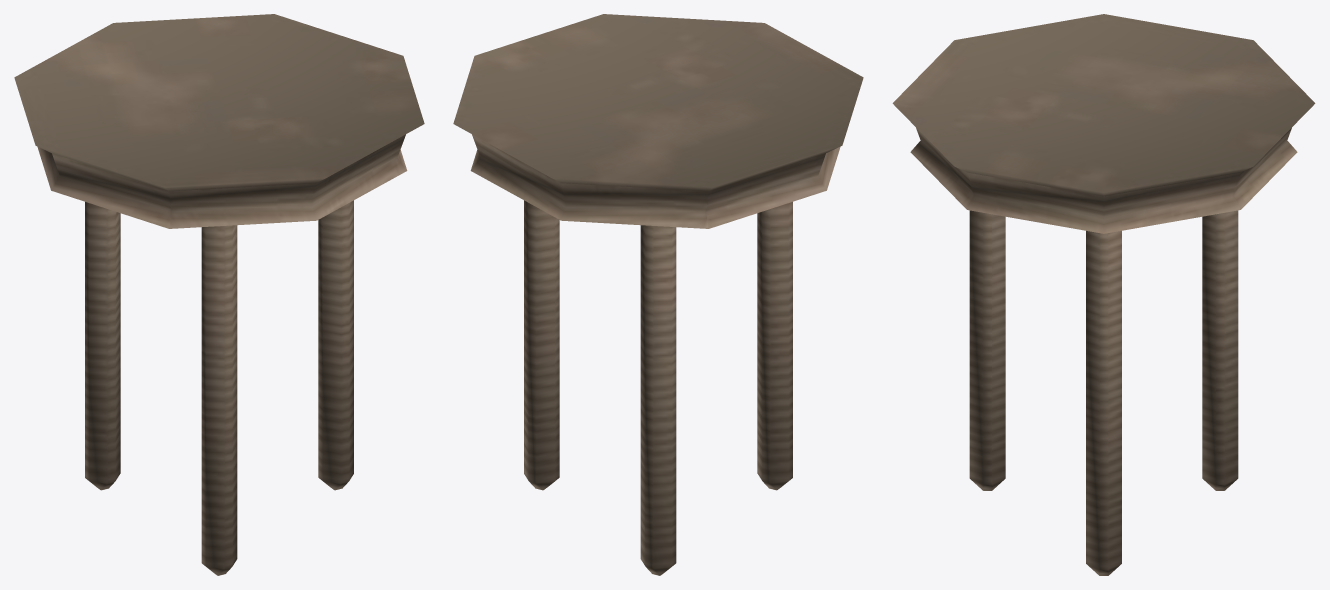
The model's file is stool.glb.
3 renders of one model, left to right at view 1: azimuth 30°, elevation 25°; view 2: azimuth 150°, elevation 25°; view 3: azimuth 270°, elevation 25°, orthographic.
Parts seen in each view (by area): view 1: stool; view 2: stool; view 3: stool.
Boxes of the visible parts, x1,y1,x2,y2 form: stool: [14, 14, 424, 575]; stool: [453, 14, 863, 575]; stool: [892, 14, 1315, 575].
Bounding box in the file's own units: 0.4725 × 0.51 × 0.4725.
Materials: 1 (1 with a texture image).
